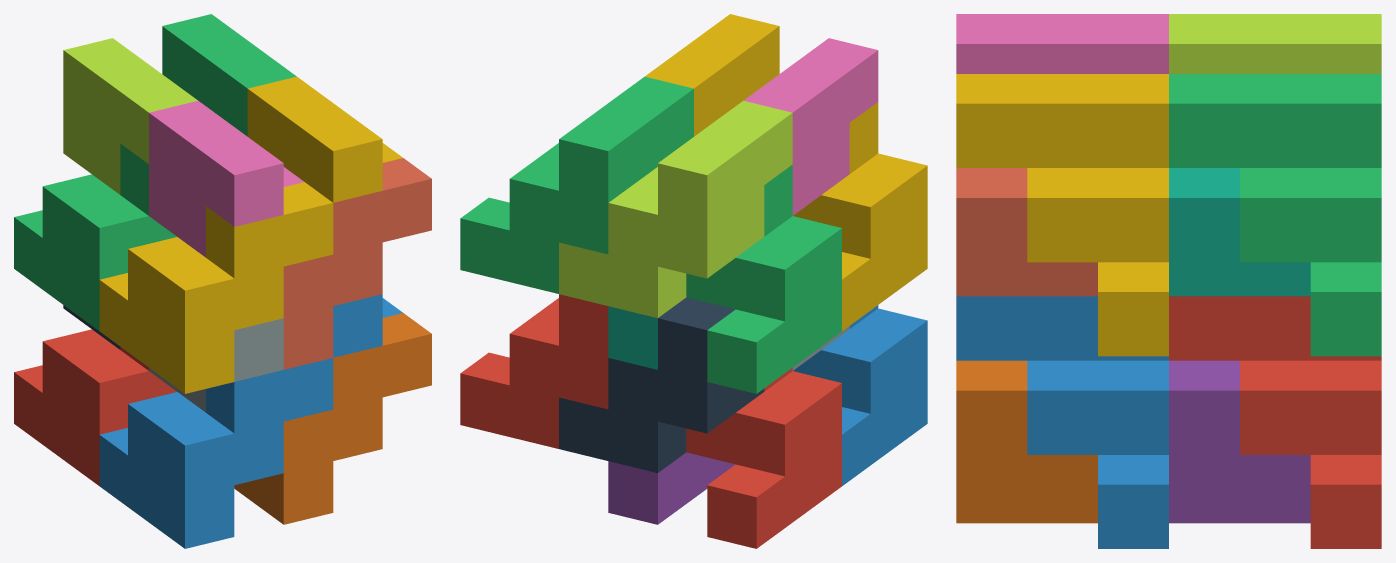
The model's file is tiling.obj.
The picture shows the model from 3 angles, left to right: view 1: azimuth 30°, elevation 25°; view 2: azimuth 150°, elevation 25°; view 3: azimuth 270°, elevation 25°; orthographic projection. The views are drawn at different scales.
Parts seen in each view (by area): view 1: copy_1_domain_4, copy_1_domain_2, copy_1_domain_6, copy_1_domain_3, copy_2_domain_4, copy_1_domain_8, copy_1_domain_1, copy_2_domain_3, copy_2_domain_8, copy_2_domain_7, copy_2_domain_2, copy_2_domain_6; view 2: copy_2_domain_3, copy_2_domain_7, copy_1_domain_3, copy_1_domain_1, copy_2_domain_1, copy_2_domain_5, copy_1_domain_4, copy_1_domain_2, copy_2_domain_4, copy_2_domain_8, copy_1_domain_5, copy_1_domain_7; view 3: copy_2_domain_7, copy_2_domain_8, copy_2_domain_5, copy_2_domain_6, copy_1_domain_6, copy_1_domain_5, copy_2_domain_3, copy_2_domain_4, copy_1_domain_8, copy_1_domain_7.
Part boxes in pixels (x1,y1,x2,y2): copy_1_domain_4: [99, 182, 333, 393]; copy_1_domain_2: [99, 358, 333, 548]; copy_1_domain_6: [234, 313, 431, 524]; copy_1_domain_3: [14, 143, 176, 330]; copy_2_domain_4: [149, 100, 303, 257]; copy_1_domain_8: [283, 158, 431, 369]; copy_1_domain_1: [14, 329, 176, 485]; copy_2_domain_3: [63, 38, 197, 194]; copy_2_domain_8: [247, 76, 402, 202]; copy_2_domain_7: [162, 14, 296, 136]; copy_2_domain_2: [149, 318, 283, 412]; copy_2_domain_6: [333, 294, 402, 357]; copy_2_domain_3: [559, 100, 792, 318]; copy_2_domain_7: [460, 76, 693, 293]; copy_1_domain_3: [686, 164, 841, 393]; copy_1_domain_1: [686, 368, 841, 548]; copy_2_domain_1: [559, 297, 764, 472]; copy_2_domain_5: [460, 294, 608, 448]; copy_1_domain_4: [793, 102, 927, 330]; copy_1_domain_2: [793, 305, 927, 485]; copy_2_domain_4: [744, 38, 878, 215]; copy_2_domain_8: [645, 14, 779, 136]; copy_1_domain_5: [608, 452, 735, 524]; copy_1_domain_7: [608, 306, 657, 369]; copy_2_domain_7: [1169, 74, 1381, 356]; copy_2_domain_8: [956, 74, 1168, 356]; copy_2_domain_5: [1169, 296, 1381, 548]; copy_2_domain_6: [956, 296, 1168, 548]; copy_1_domain_6: [956, 360, 1097, 523]; copy_1_domain_5: [1169, 360, 1310, 523]; copy_2_domain_3: [1169, 14, 1381, 73]; copy_2_domain_4: [956, 14, 1168, 73]; copy_1_domain_8: [956, 168, 1097, 296]; copy_1_domain_7: [1169, 168, 1310, 296].
Bounding box in the file's own units: 6 × 7 × 6.
